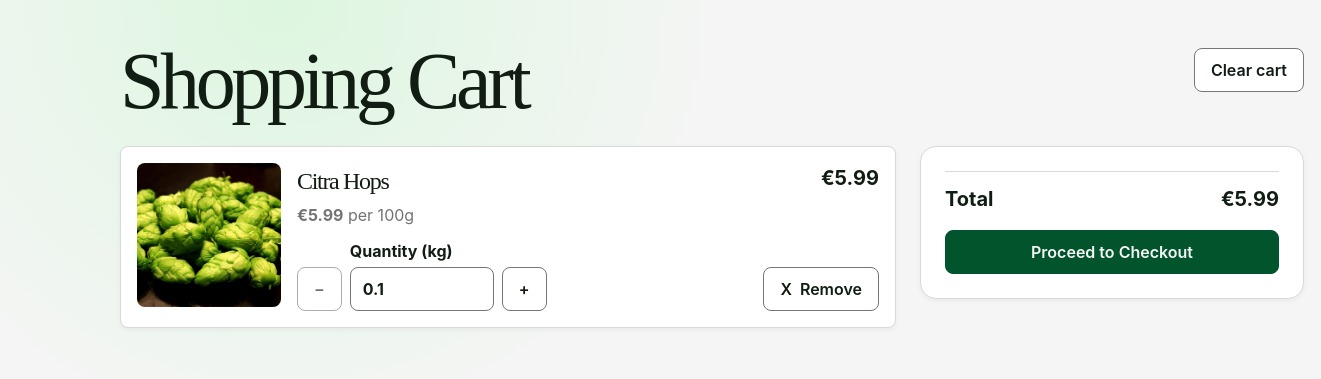
Scenario: CartScreen › keeps every cart control available and reports a business outcome inline
The image size is (1321, 379).
Click the button "Proceed to Checkout".
click(1112, 252)  # box top-left (945, 230), bottom-right (1279, 274)
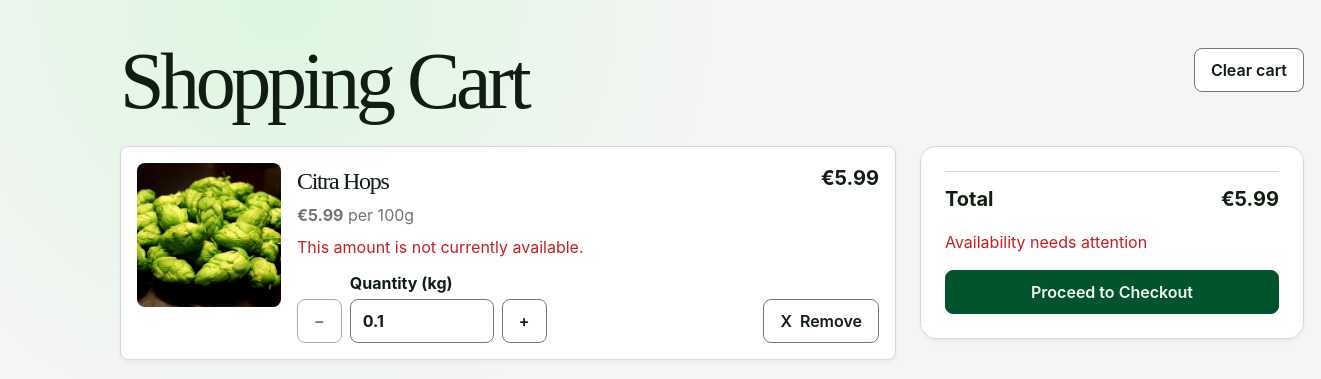
Check: the button "Proceed to Checkout" is enabled, box top-left (945, 270), bottom-right (1279, 314)
Check: the text "This amount is not currently available." is shown, box top-left (297, 237), bottom-right (584, 257)
Check: the text "Availability needs attention" is shown, box top-left (945, 232), bottom-right (1147, 252)
